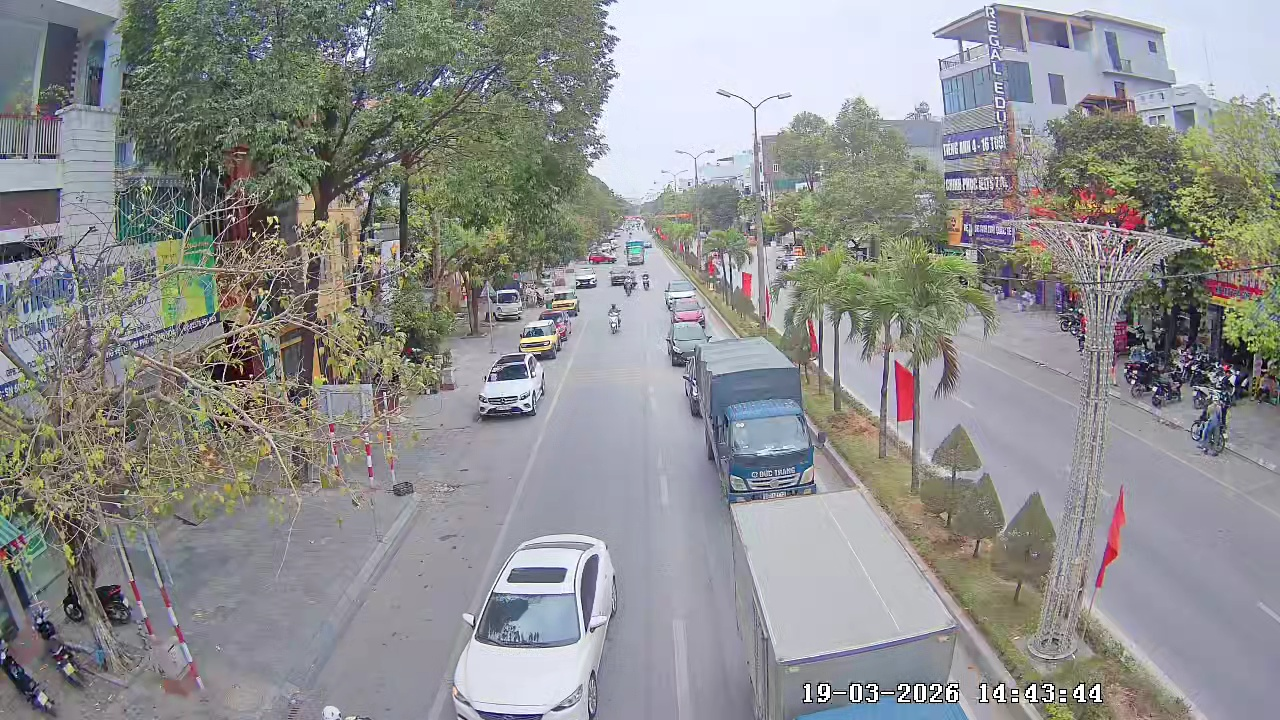car: (447, 531, 622, 719), (475, 353, 546, 419), (664, 316, 710, 368), (518, 314, 564, 360), (486, 279, 525, 322), (666, 295, 707, 327), (663, 280, 699, 316), (551, 284, 580, 317), (574, 266, 598, 291)
motorbike: (1190, 397, 1230, 458), (607, 301, 622, 335)
truck: (689, 337, 821, 504)
